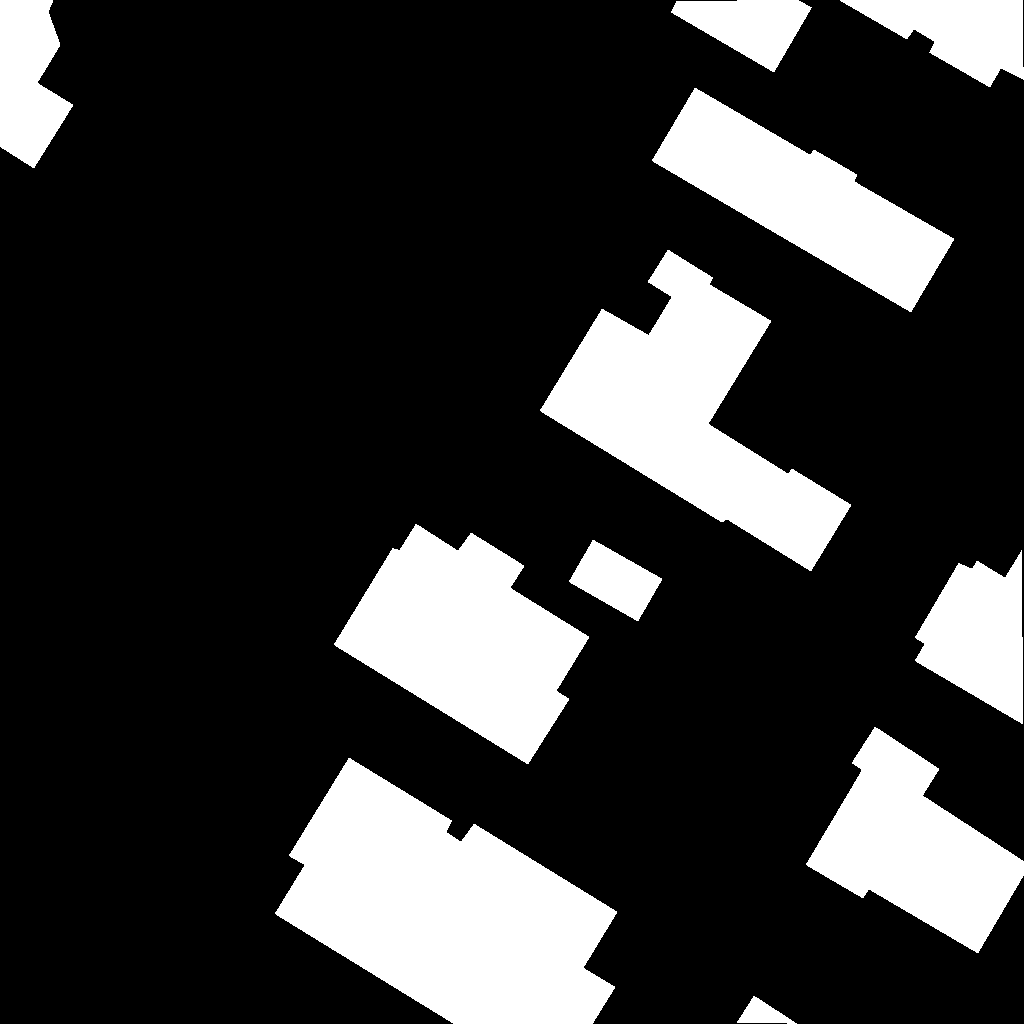building: (540, 250, 852, 572), (275, 758, 618, 1024), (652, 88, 955, 313), (334, 524, 590, 765), (806, 727, 1024, 954), (915, 550, 1024, 725), (839, 0, 1024, 88), (0, 0, 74, 169), (671, 0, 813, 73), (569, 540, 663, 622), (737, 996, 798, 1024)
